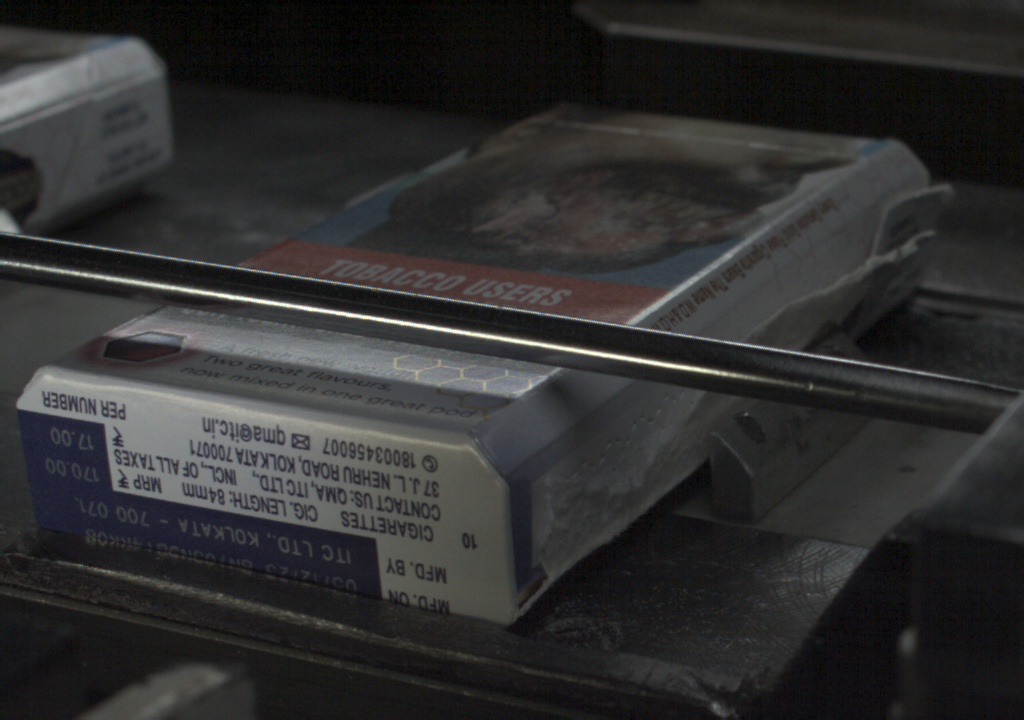g_bottom: (13, 369, 500, 635)
g_label: (28, 495, 384, 600)
ng_lmiter: (513, 429, 583, 571), (586, 395, 669, 505), (752, 272, 830, 333), (830, 227, 892, 292)
ng_miter: (893, 181, 938, 265)
price: (19, 420, 109, 493)
